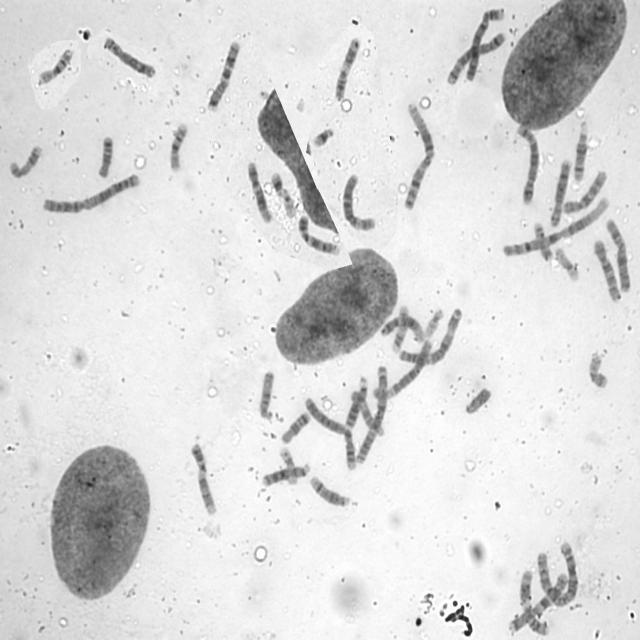A1: (498, 194, 610, 259), (401, 100, 436, 212)
A2: (39, 170, 141, 216), (535, 538, 580, 609)
A3: (395, 305, 465, 367), (354, 361, 390, 467)
B4: (303, 396, 358, 475), (463, 4, 506, 84)
B5: (443, 28, 508, 86), (513, 122, 540, 206)
C10: (560, 166, 609, 217), (591, 236, 622, 304)
C11: (516, 569, 551, 636), (332, 35, 362, 102)
C12: (245, 158, 273, 224), (379, 312, 425, 344)
C6: (372, 335, 434, 401), (339, 170, 377, 232)
C7: (506, 572, 568, 635), (204, 38, 242, 113)
C8: (100, 34, 156, 79), (548, 156, 572, 229)
C9: (187, 439, 218, 518), (296, 212, 342, 257)
D13: (342, 374, 369, 429), (260, 460, 311, 488)
D14: (307, 472, 352, 508), (570, 120, 590, 184)
D15: (348, 389, 384, 438), (256, 367, 277, 424)
E16: (36, 44, 75, 86), (167, 120, 188, 172)
E17: (6, 142, 44, 181), (389, 300, 411, 356)
E18: (279, 410, 311, 446), (95, 133, 114, 179)
F19: (552, 245, 580, 282), (276, 446, 300, 486)
F20: (586, 348, 610, 390), (532, 220, 553, 262)
G21: (311, 124, 335, 149), (270, 171, 284, 198)
G22: (423, 306, 444, 337), (279, 186, 298, 219)
X: (604, 214, 632, 294)
Y: (462, 383, 493, 415)
